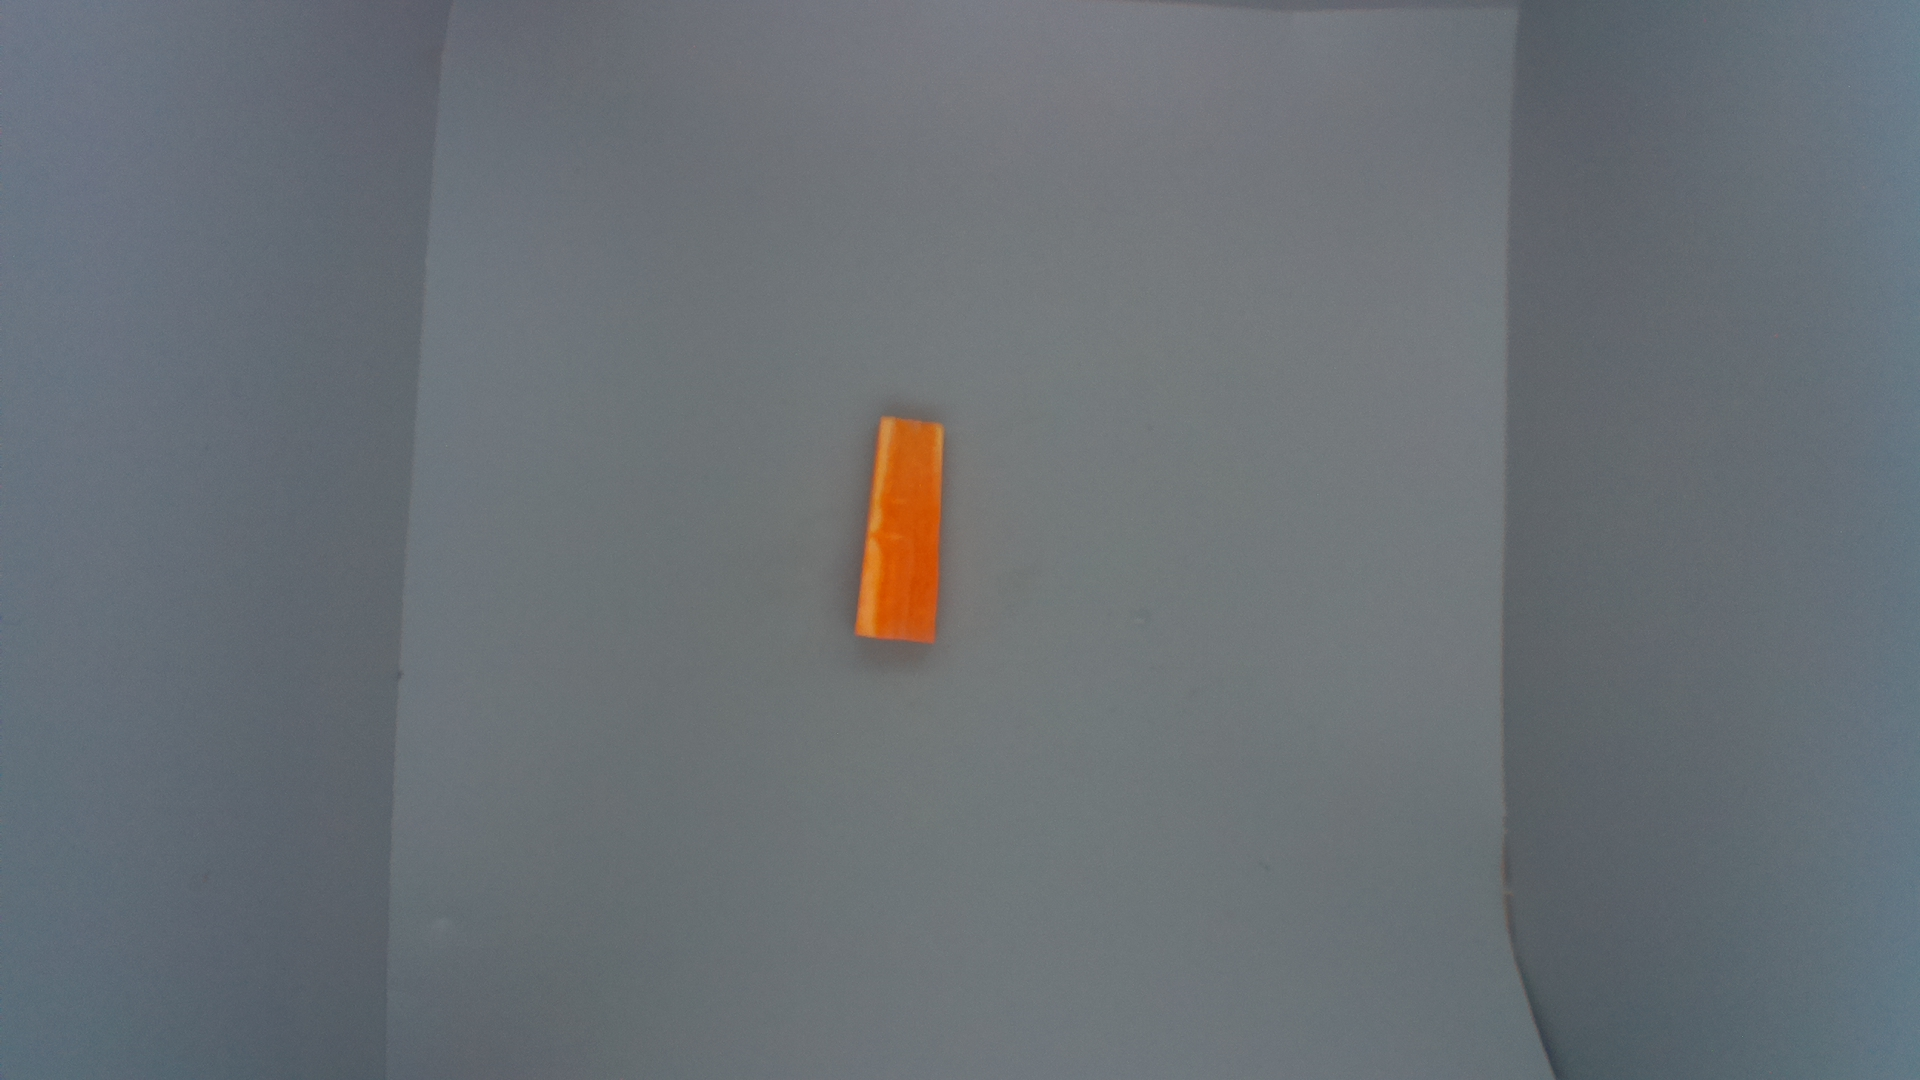carrot: (851, 413, 947, 645)
